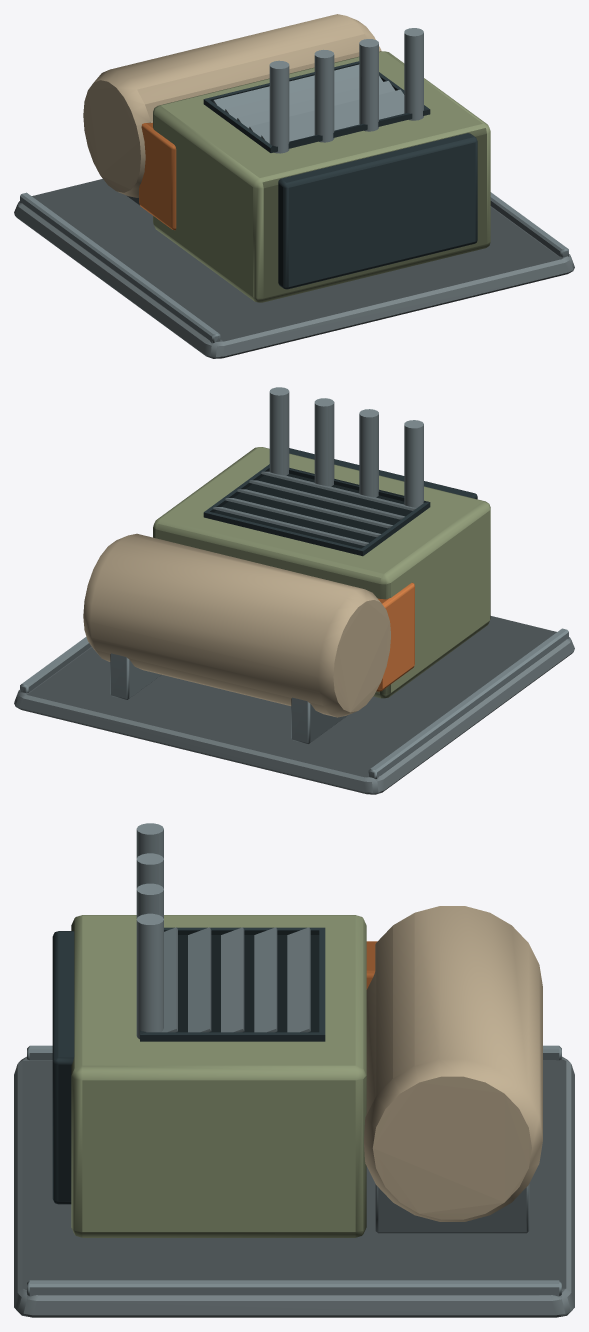
Rendered from DieselArray.glb.
3 renders of one model, top to bottom at view 1: azimuth 30°, elevation 25°; view 2: azimuth 150°, elevation 25°; view 3: azimuth 270°, elevation 25°, orthographic. The views are drawn at different scales.
Parts seen in each view (by area): view 1: export_DieselArray_GravelPad; view 2: export_DieselArray_GravelPad; view 3: export_DieselArray_GravelPad.
Boxes of the visible parts, box(x1,y1,x2,y2) form: export_DieselArray_GravelPad: box(14, 14, 574, 358); export_DieselArray_GravelPad: box(14, 387, 574, 794); export_DieselArray_GravelPad: box(14, 823, 574, 1317).
Size of the model in its own units: 4.28 by 2.57 by 4.09.
